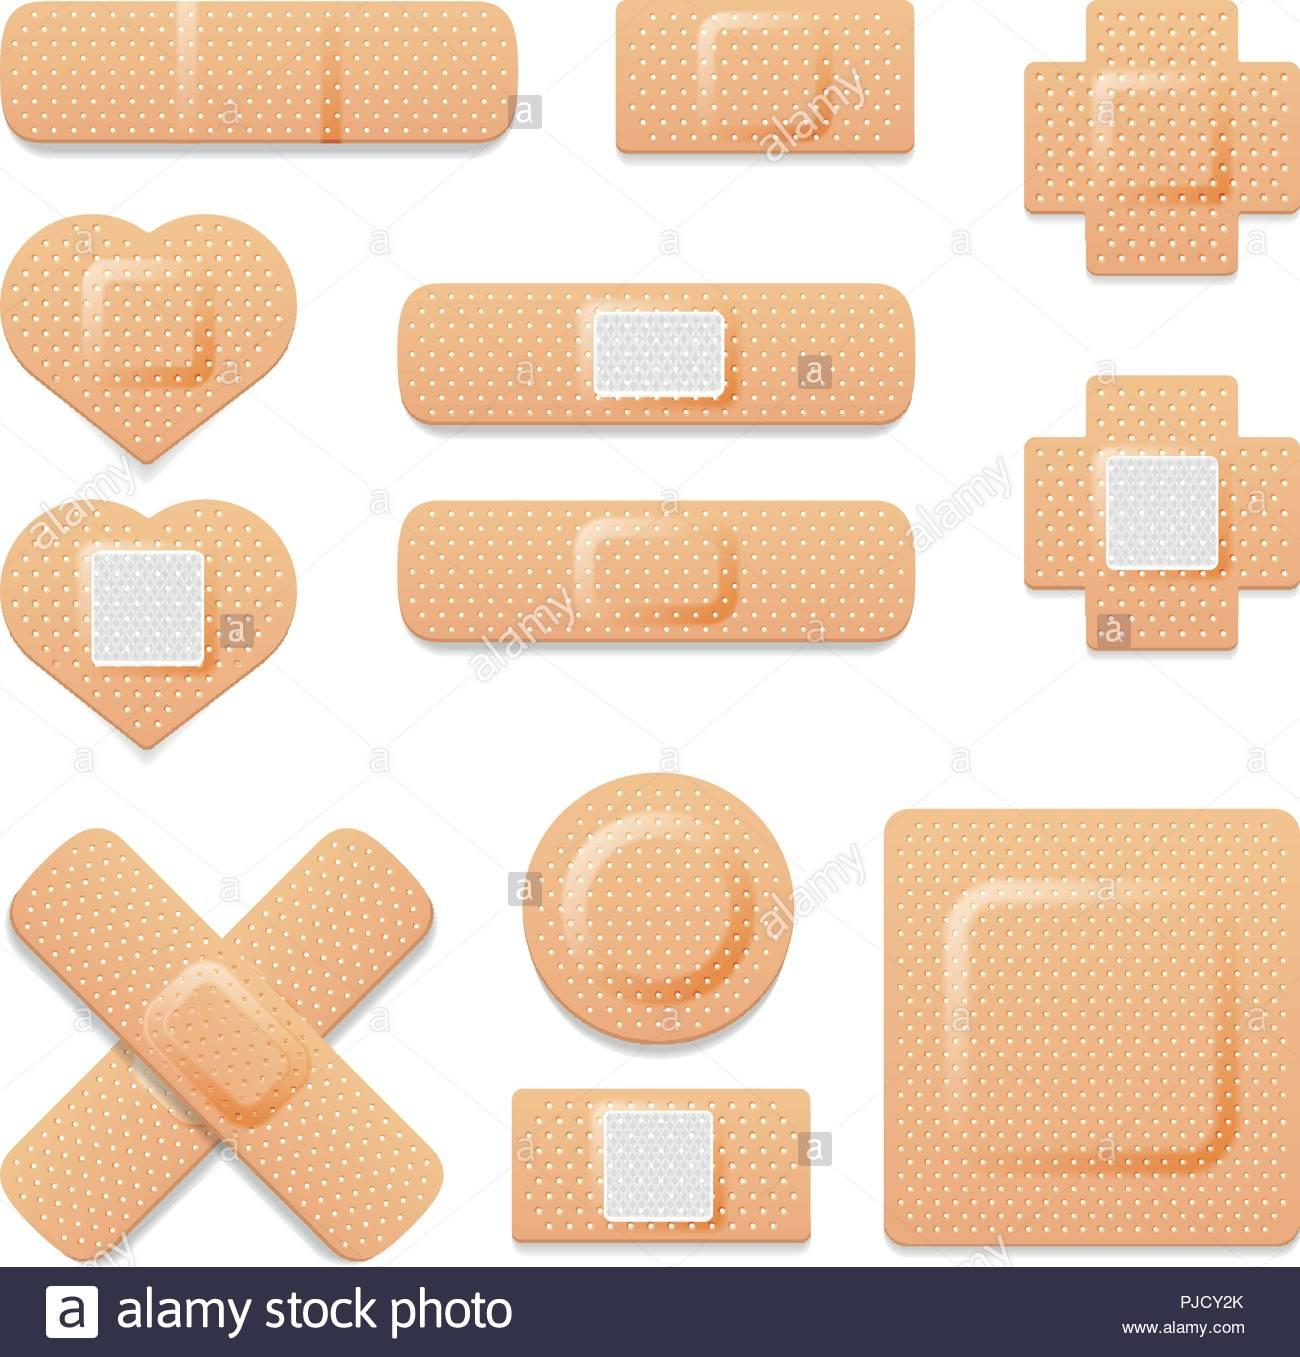bandage: (8, 818, 441, 1266), (886, 806, 1300, 1244), (397, 277, 914, 428), (1023, 0, 1295, 280), (2, 208, 299, 464), (1025, 376, 1300, 651), (0, 498, 293, 750), (0, 6, 523, 142), (397, 500, 914, 636), (515, 1090, 813, 1248), (615, 0, 911, 150)
